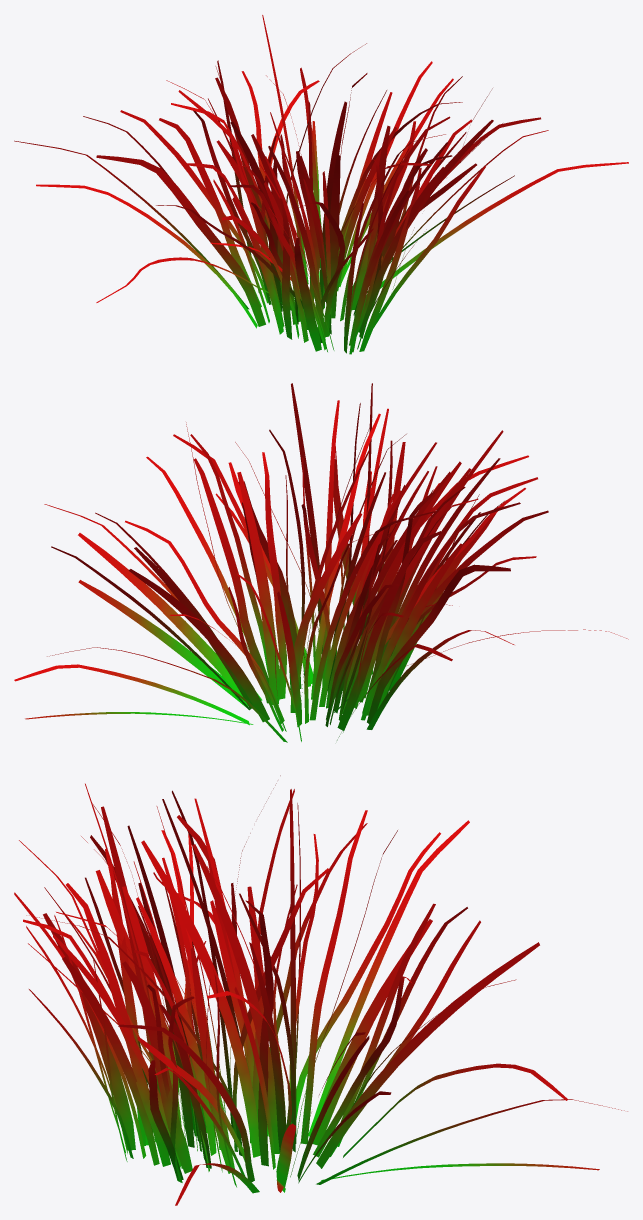
Rendered from Var8_LOD0.fbx.
3 views of the same model, one above another, from view 1: azimuth 30°, elevation 25°; view 2: azimuth 150°, elevation 25°; view 3: azimuth 270°, elevation 25° (orthographic). The views are drawn at different scales.
Visible parts, largest first — view 1: _atsb_Var8_LOD0; view 2: _atsb_Var8_LOD0; view 3: _atsb_Var8_LOD0.
Part boxes in pixels (x1=…): _atsb_Var8_LOD0: x1=14, y1=15, x2=628, y2=354; _atsb_Var8_LOD0: x1=14, y1=383, x2=628, y2=742; _atsb_Var8_LOD0: x1=14, y1=775, x2=627, y2=1205.
Bounding box in the file's own units: 25.38 × 11.2 × 19.66.
